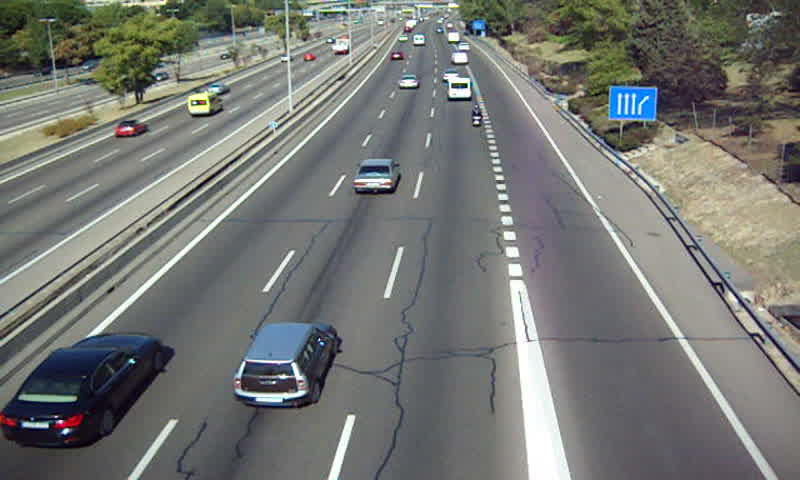car: (1, 332, 163, 447), (234, 322, 334, 407), (352, 157, 399, 194), (398, 74, 418, 90), (442, 69, 458, 82)
motorcycle: (471, 104, 484, 127)
van: (448, 75, 472, 99), (452, 52, 469, 65)
